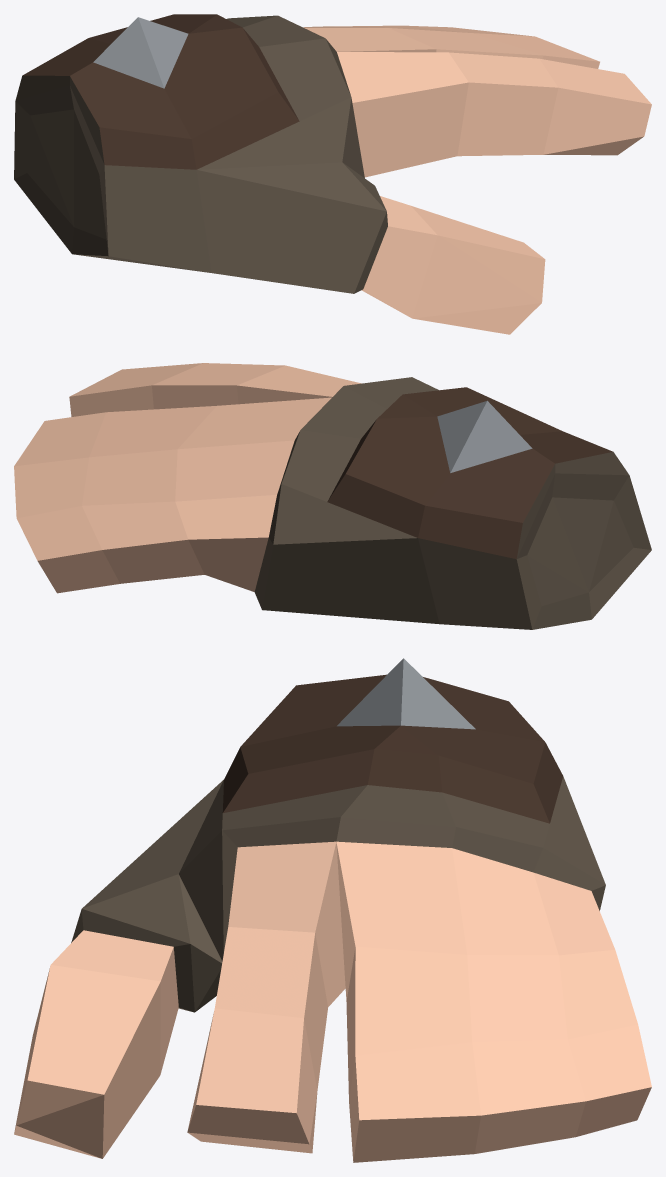
Rendered from Chr_HandLeft_Female_02_Static.fbx.
3 renders of one model, top to bottom at view 1: azimuth 30°, elevation 25°; view 2: azimuth 150°, elevation 25°; view 3: azimuth 270°, elevation 25°, orthographic. The views are drawn at different scales.
Visible parts, largest first — view 1: Chr_HandLeft_Female_02_Static; view 2: Chr_HandLeft_Female_02_Static; view 3: Chr_HandLeft_Female_02_Static.
Part boxes in pixels (x1,y1,x2,y2): Chr_HandLeft_Female_02_Static: [14, 14, 651, 334]; Chr_HandLeft_Female_02_Static: [14, 363, 651, 629]; Chr_HandLeft_Female_02_Static: [14, 658, 651, 1162].
Size of the model in its own units: 0.237 by 0.1165 by 0.188.
